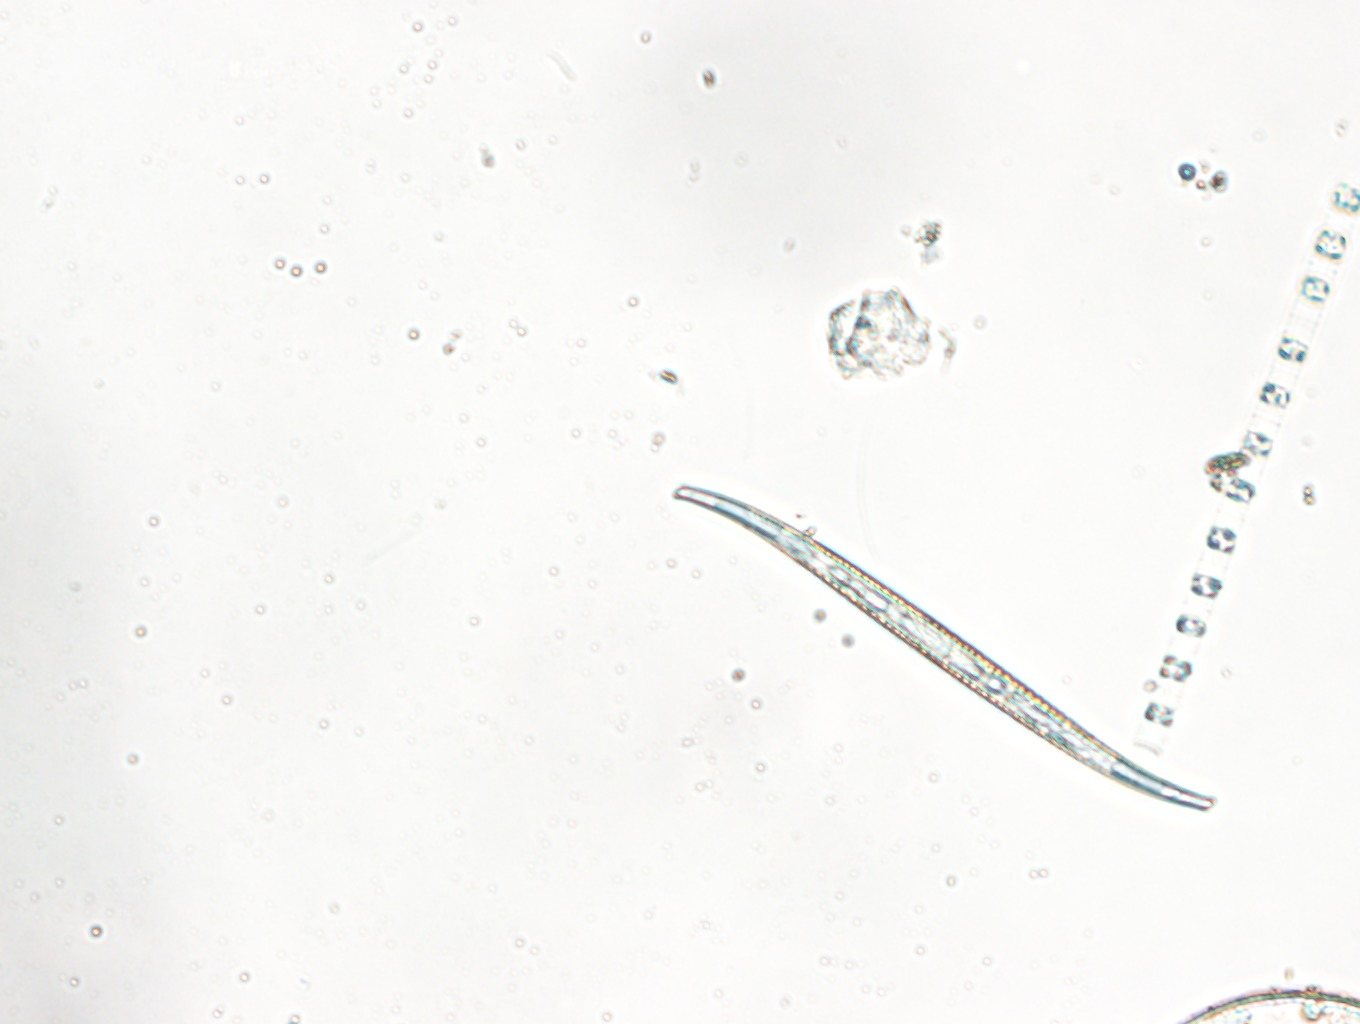pleurosigma pelagicum: (665, 480, 1217, 814)
skeletonema: (1137, 174, 1360, 759)
